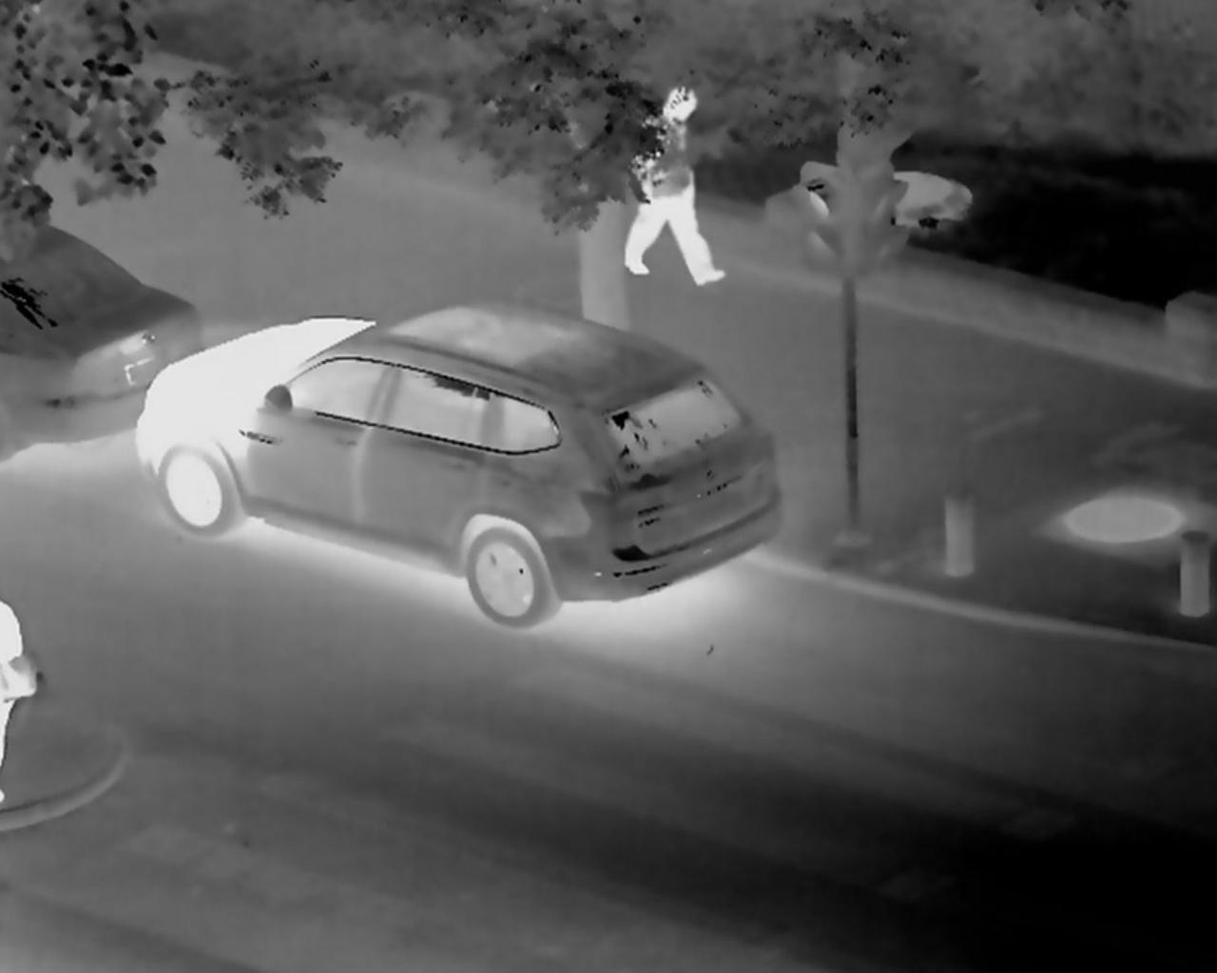person: (640, 95, 755, 287)
